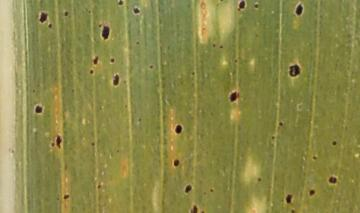tarspot: (99, 23, 110, 40), (288, 64, 301, 78), (283, 193, 294, 205), (229, 90, 239, 102), (55, 133, 62, 149), (112, 73, 120, 87), (33, 104, 44, 114), (327, 174, 338, 184), (39, 11, 48, 23), (295, 2, 303, 15), (175, 122, 183, 134), (238, 1, 247, 11), (189, 204, 198, 213), (307, 188, 316, 197), (132, 5, 140, 15), (184, 183, 192, 193), (92, 54, 99, 65), (89, 138, 96, 148), (173, 157, 180, 167), (108, 56, 116, 64), (62, 192, 71, 199), (30, 86, 37, 94), (208, 186, 215, 194), (277, 119, 284, 127), (121, 76, 127, 85), (297, 102, 303, 111), (88, 67, 95, 74), (253, 2, 260, 9), (311, 154, 318, 161), (49, 141, 57, 147), (137, 115, 143, 123), (270, 133, 276, 141), (96, 182, 102, 189), (114, 146, 120, 153), (63, 11, 69, 18), (97, 21, 103, 28), (133, 39, 140, 45), (122, 102, 129, 108), (233, 57, 239, 64), (211, 42, 217, 49), (331, 139, 337, 146), (87, 7, 92, 15), (117, 1, 125, 6), (257, 175, 262, 183), (69, 87, 75, 93), (190, 70, 196, 76), (47, 21, 52, 28), (10, 146, 15, 153), (218, 44, 225, 49), (289, 209, 297, 213), (148, 63, 153, 69), (200, 209, 205, 213), (218, 1, 224, 3)
